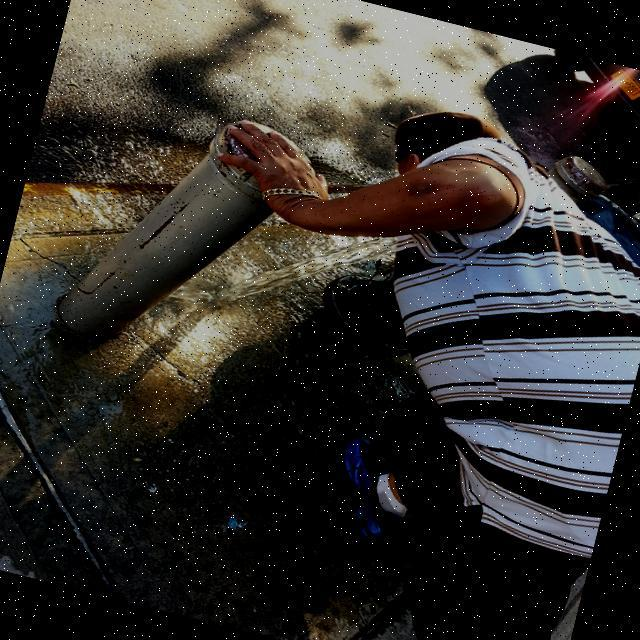fire_hydrant: (299, 260, 422, 372)
